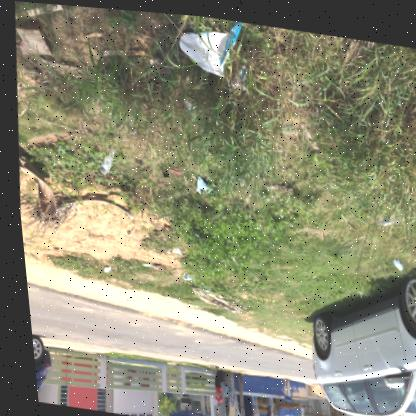Plastic: (178, 16, 241, 72), (95, 148, 111, 172), (372, 210, 394, 218), (163, 242, 176, 251), (388, 252, 398, 263), (175, 271, 189, 277)
Waste: (229, 61, 245, 86), (192, 172, 205, 188), (18, 40, 28, 53), (136, 261, 147, 264), (97, 265, 105, 269), (388, 251, 391, 255)
